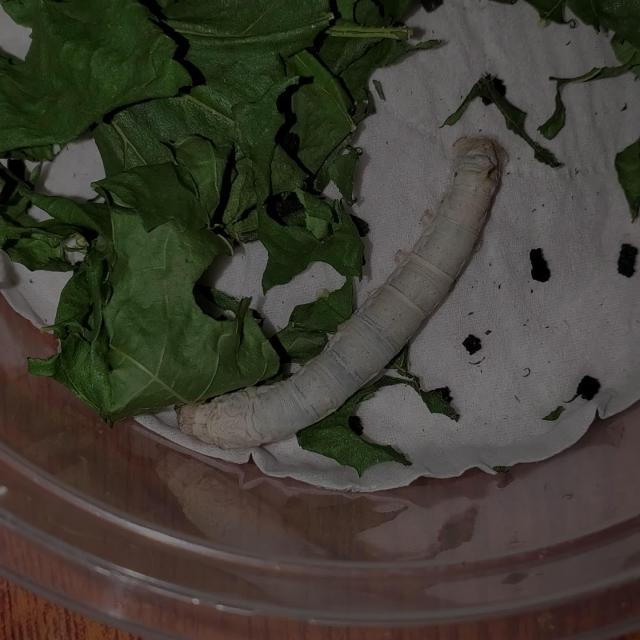Healthy: (128, 102, 530, 469)
